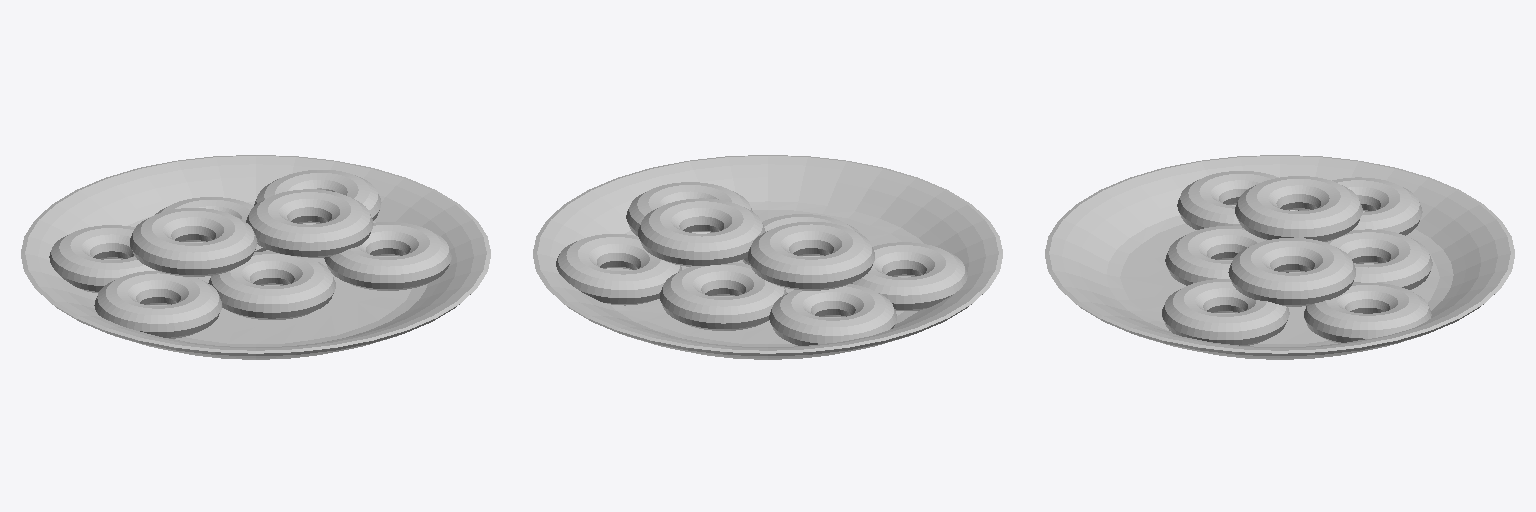
The model's file is ALI AGREM.obj.
3 renders of one model, left to right at view 1: azimuth 30°, elevation 25°; view 2: azimuth 150°, elevation 25°; view 3: azimuth 270°, elevation 25°, orthographic.
Visible parts, largest first — view 1: Cylinder, Torus.007, Torus.006, Torus.003, Torus.004, Torus.005, Torus.002, Torus.001, Torus; view 2: Cylinder, Torus.007, Torus.006, Torus, Torus.001, Torus.002, Torus.003, Torus.005, Torus.004; view 3: Cylinder, Torus.006, Torus.007, Torus.005, Torus.001, Torus, Torus.004, Torus.003, Torus.002.
Boxes of the visible parts, <box> form: Cylinder: <box>21,155,490,359</box>; Torus.007: <box>130,208,257,276</box>; Torus.006: <box>246,189,373,257</box>; Torus.003: <box>94,271,221,338</box>; Torus.004: <box>208,251,335,319</box>; Torus.005: <box>324,222,451,290</box>; Torus.002: <box>49,225,155,293</box>; Torus.001: <box>254,170,381,224</box>; Torus: <box>155,197,266,251</box>; Cylinder: <box>533,155,1002,359</box>; Torus.007: <box>748,222,874,290</box>; Torus.006: <box>638,198,765,266</box>; Torus: <box>660,262,786,330</box>; Torus.001: <box>556,234,681,305</box>; Torus.002: <box>769,284,896,345</box>; Torus.003: <box>851,242,967,310</box>; Torus.005: <box>626,182,752,235</box>; Torus.004: <box>743,214,860,264</box>; Cylinder: <box>1045,155,1514,359</box>; Torus.006: <box>1228,238,1355,306</box>; Torus.007: <box>1235,176,1362,241</box>; Torus.005: <box>1162,279,1289,345</box>; Torus.001: <box>1304,283,1431,343</box>; Torus: <box>1325,229,1432,289</box>; Torus.004: <box>1165,226,1288,285</box>; Torus.003: <box>1177,171,1297,229</box>; Torus.002: <box>1298,177,1422,235</box>.
Size of the model in its own units: 2.31 by 0.3644 by 2.31.